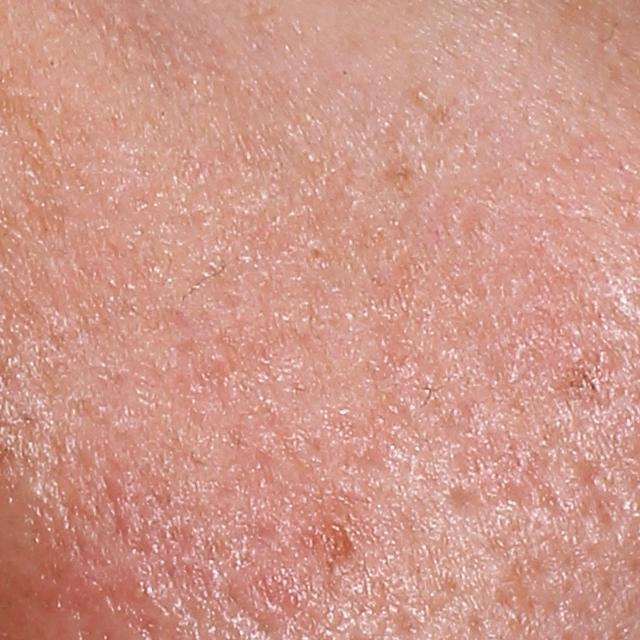atrophic_scar: (575, 460, 630, 534), (443, 485, 489, 518)
melasma: (377, 150, 427, 198)
